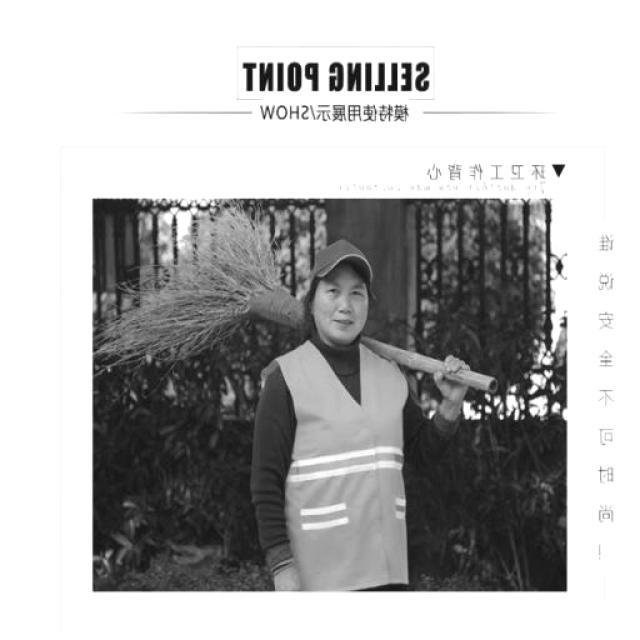face_nomask: (320, 281, 369, 337)
hand_noglove: (432, 352, 472, 407)
head_nohelmet: (308, 232, 378, 289)
person: (247, 233, 476, 592)
vest: (268, 334, 418, 584)
